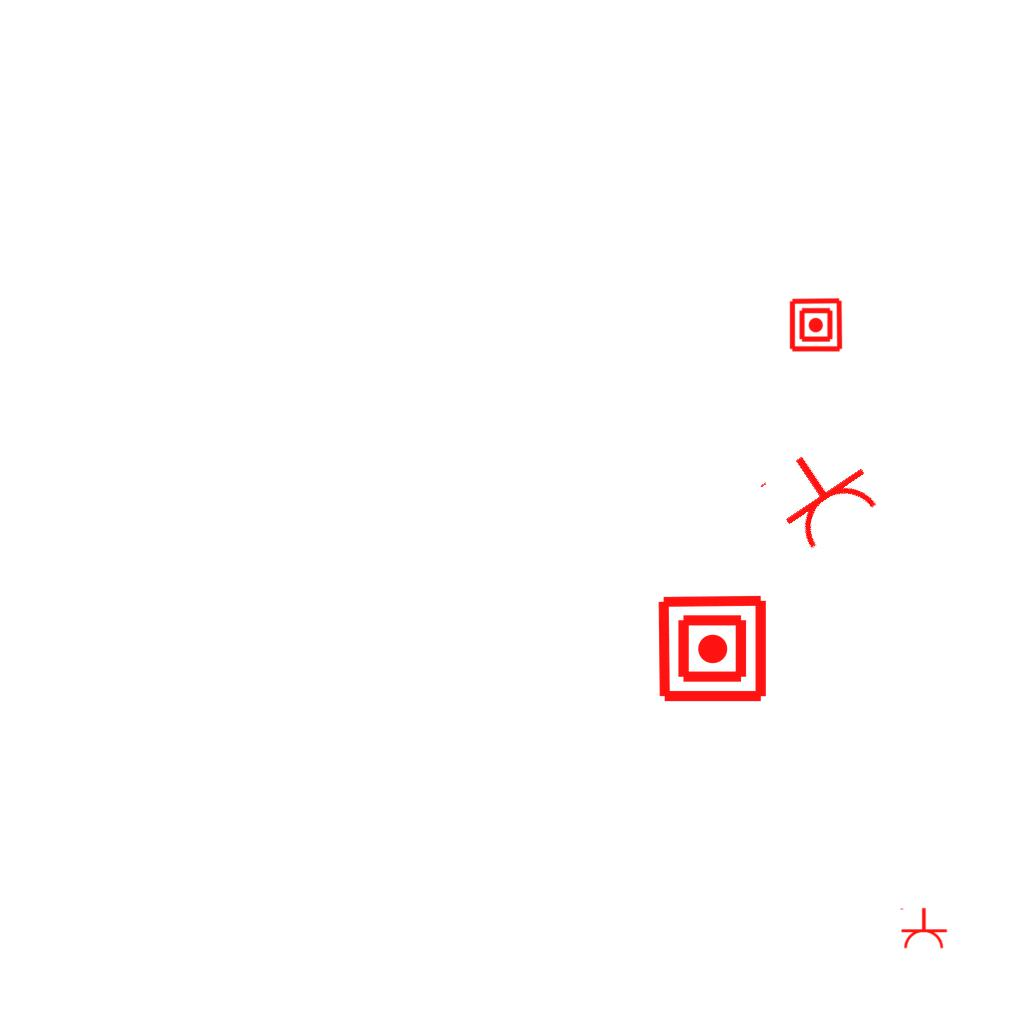NAM-Nichtautomatischer_Melder: (656, 592, 769, 705), (788, 297, 844, 353)
Schukosteckdose_einfach: (754, 429, 887, 559), (898, 907, 948, 950)
